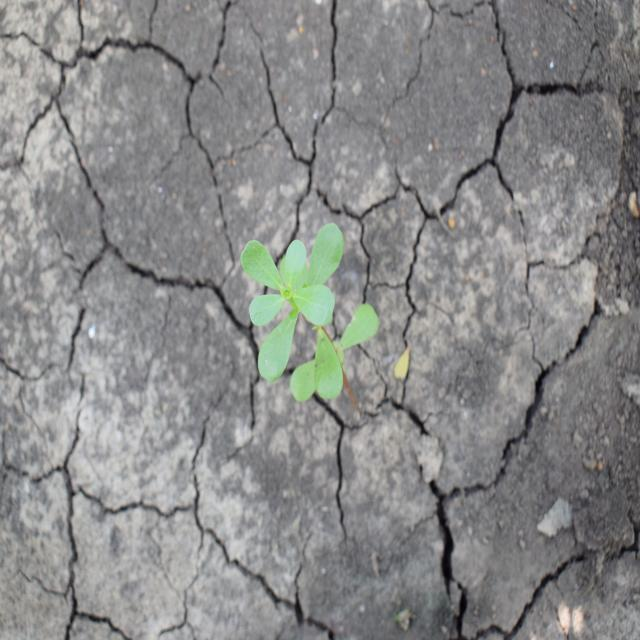Purslane: (240, 222, 381, 412)
